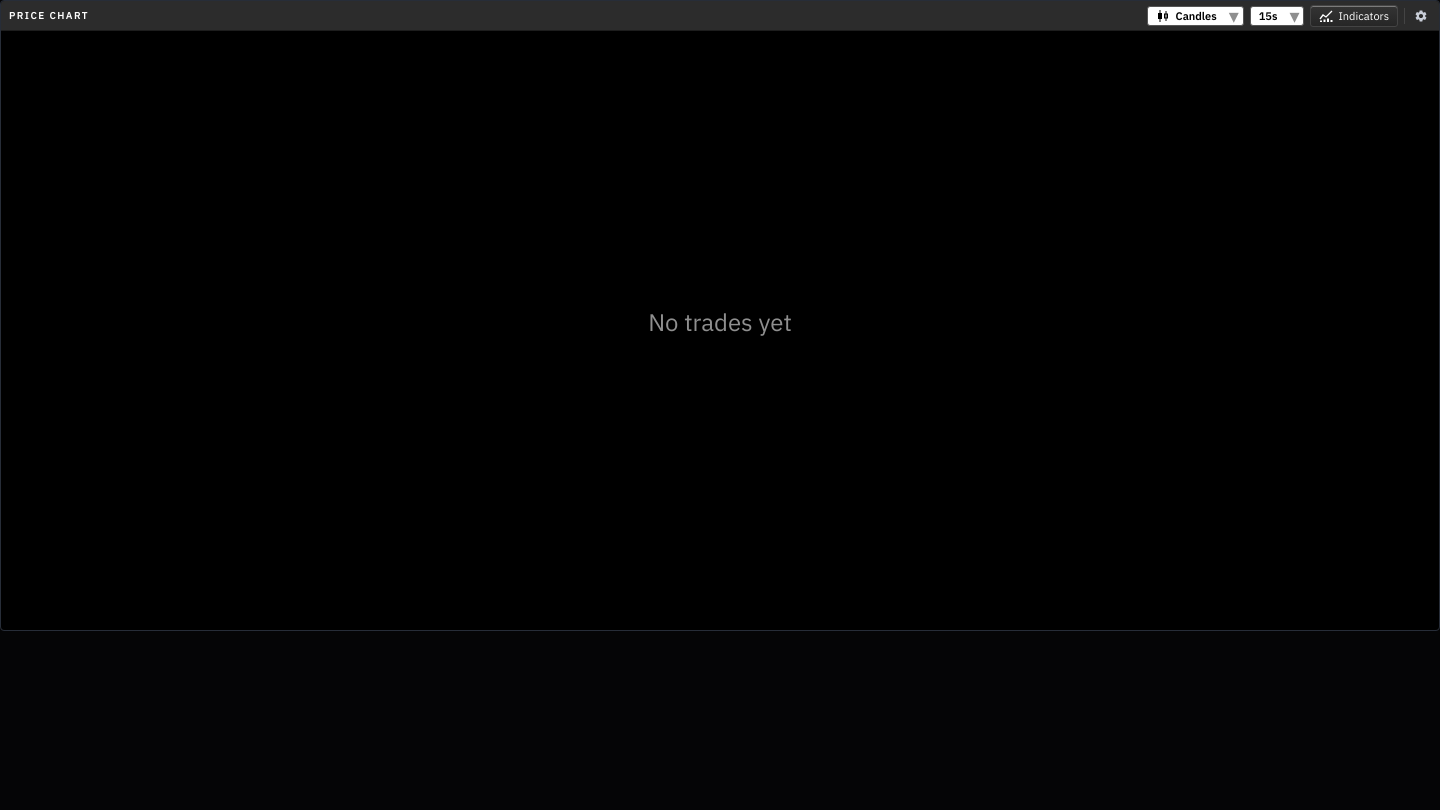
Test: indicator parameters (P19-7) › shows a disclosure only on indicators with params, collapsed
Click the button with test id "pc-settings-gear" at (1421, 16), box [1411,6,1431,26]
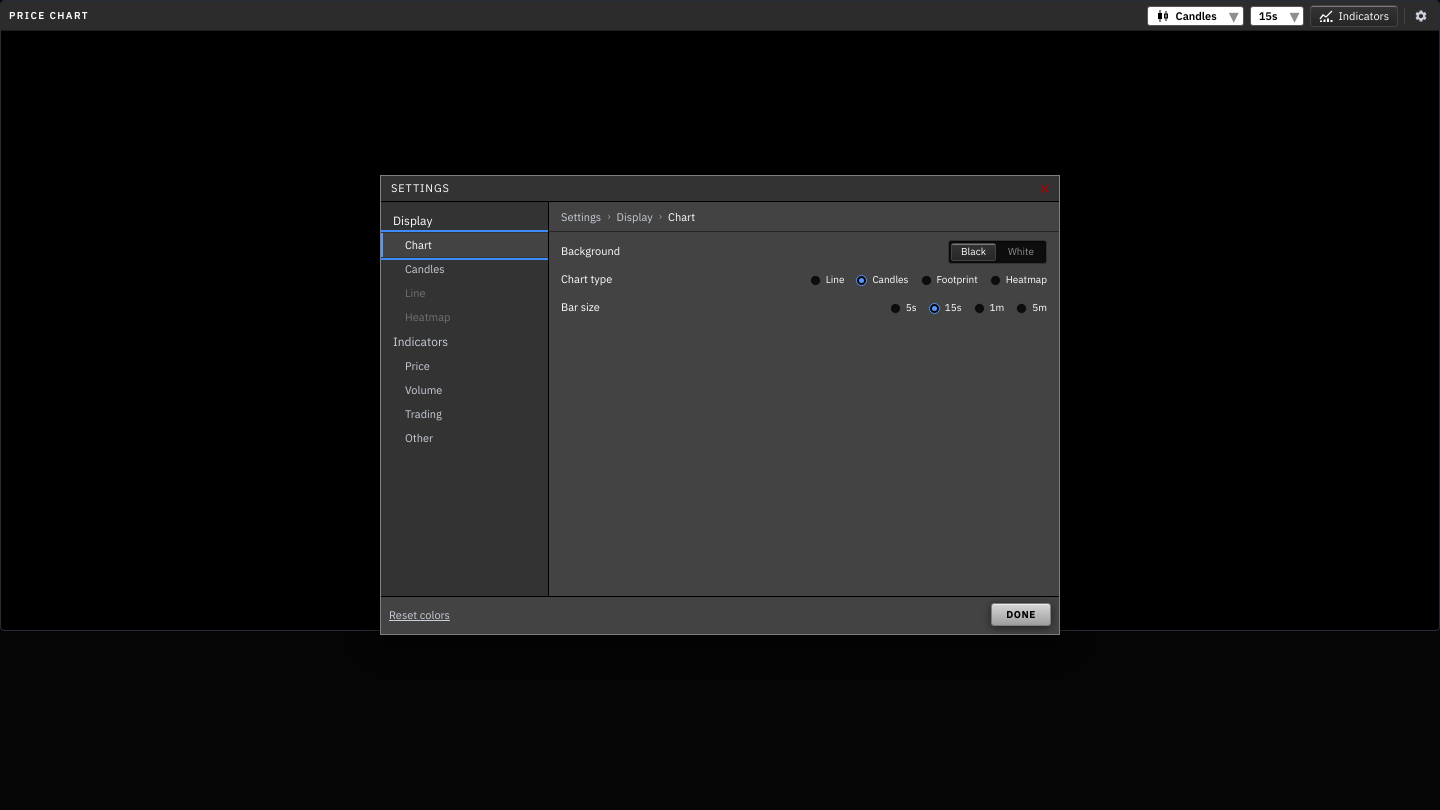
Click the button "Other" at (464, 438), box [381,426,548,450]
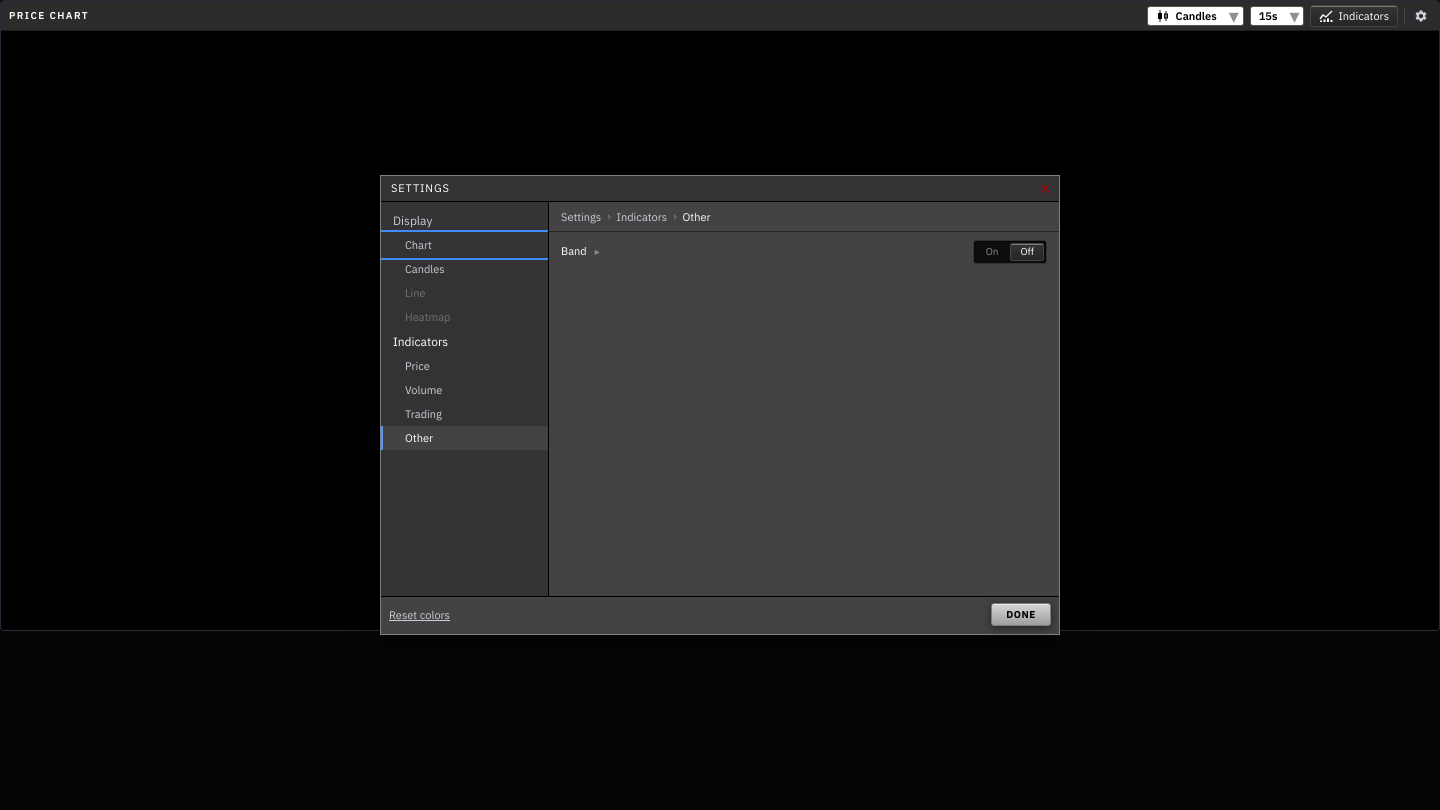
expect the button with test id "pc-ind-band-params" reads "▸": met, box [593,247,602,257]
Click the button "Price" at (464, 366), box [381,354,548,378]
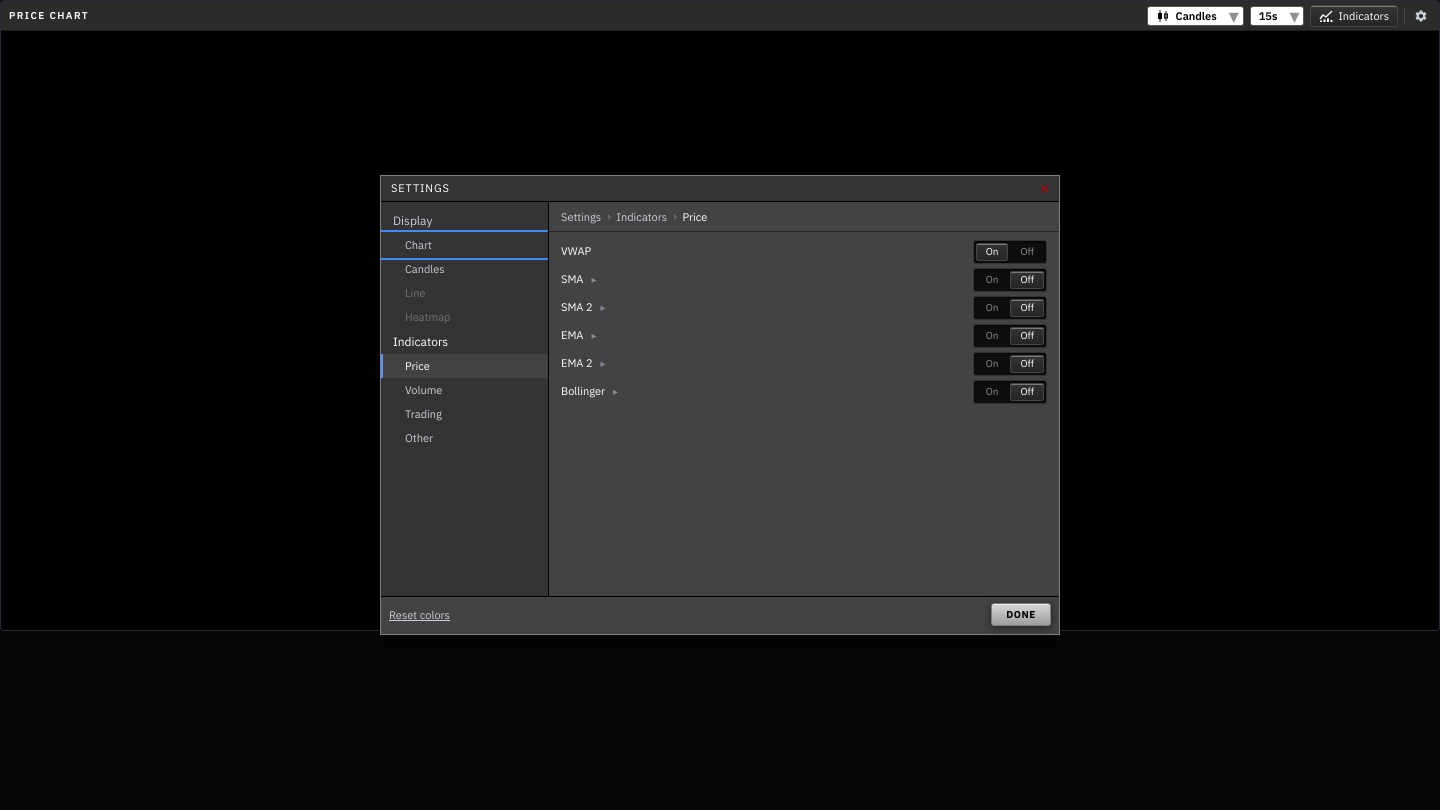
expect the button with test id "pc-ind-sma-params" reads "▸": met, box [589,275,598,285]
